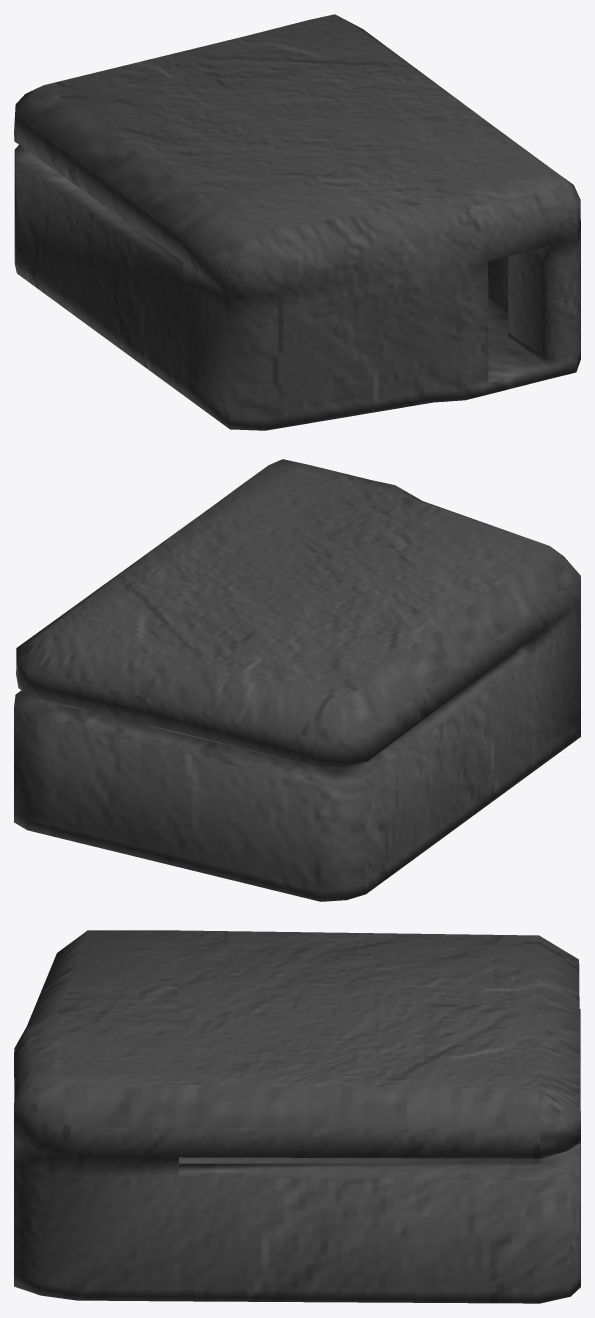
The model's file is German_Bunker.fbx.
The picture shows the model from 3 angles, top to bottom: view 1: azimuth 30°, elevation 25°; view 2: azimuth 150°, elevation 25°; view 3: azimuth 270°, elevation 25°; orthographic projection. The views are drawn at different scales.
Visible parts, largest first — view 1: Plane_001; view 2: Plane_001; view 3: Plane_001.
Boxes of the visible parts, x1=… form: Plane_001: x1=14, y1=14, x2=580, y2=430; Plane_001: x1=14, y1=459, x2=580, y2=901; Plane_001: x1=14, y1=930, x2=580, y2=1303.
Bounding box in the file's own units: 9.77 × 5.01 × 12.62.
